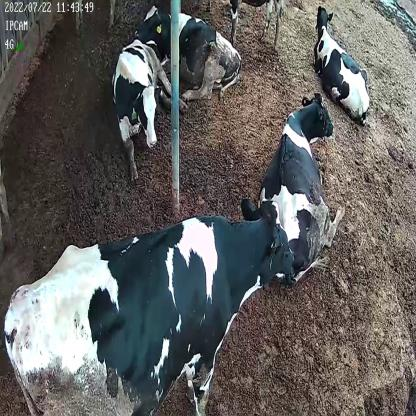cow: (4, 191, 293, 416), (259, 92, 344, 283), (111, 37, 187, 188), (141, 3, 245, 107), (312, 4, 371, 124)
